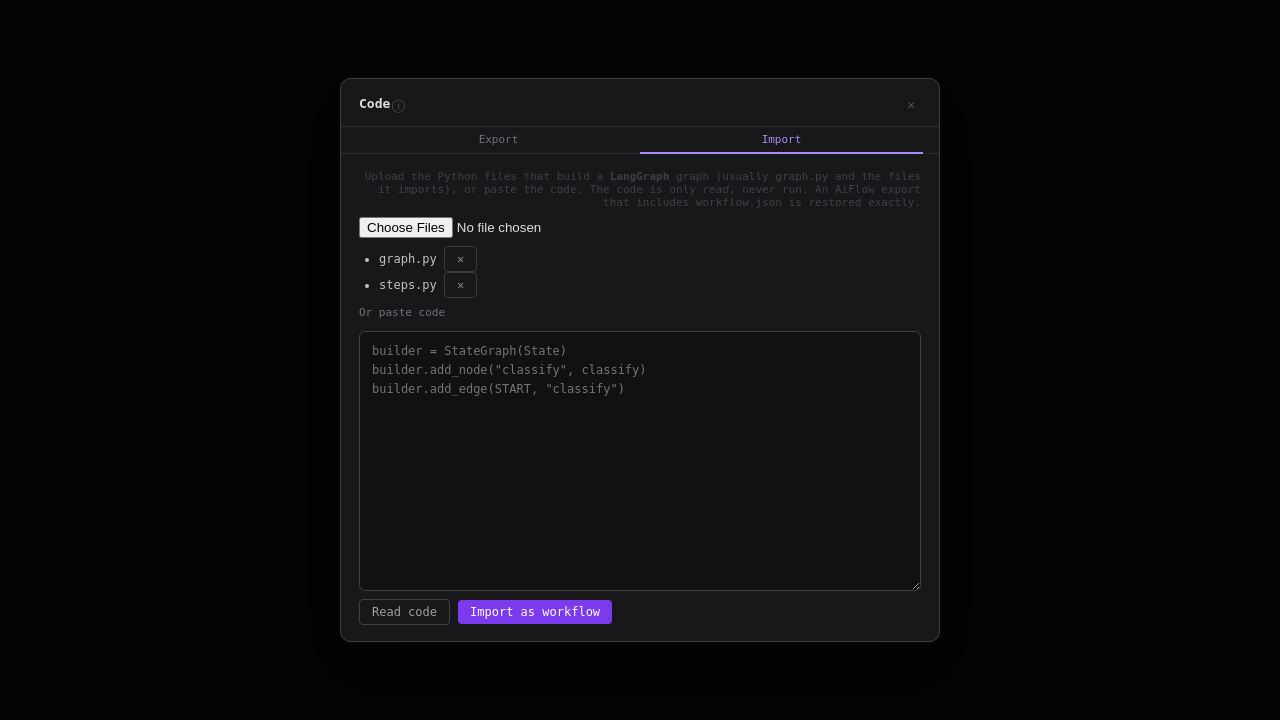
Scenario: ExportCodeModal — import tab › reads uploaded files together with pasted code, and lets a file be removed
Earlier steps of the test are not shown.
Expected: the button named "Remove graph.py" is shown, [444,246,477,272]
Click the button named "Remove steps.py".
click(461, 285)  # box [444,272,477,298]
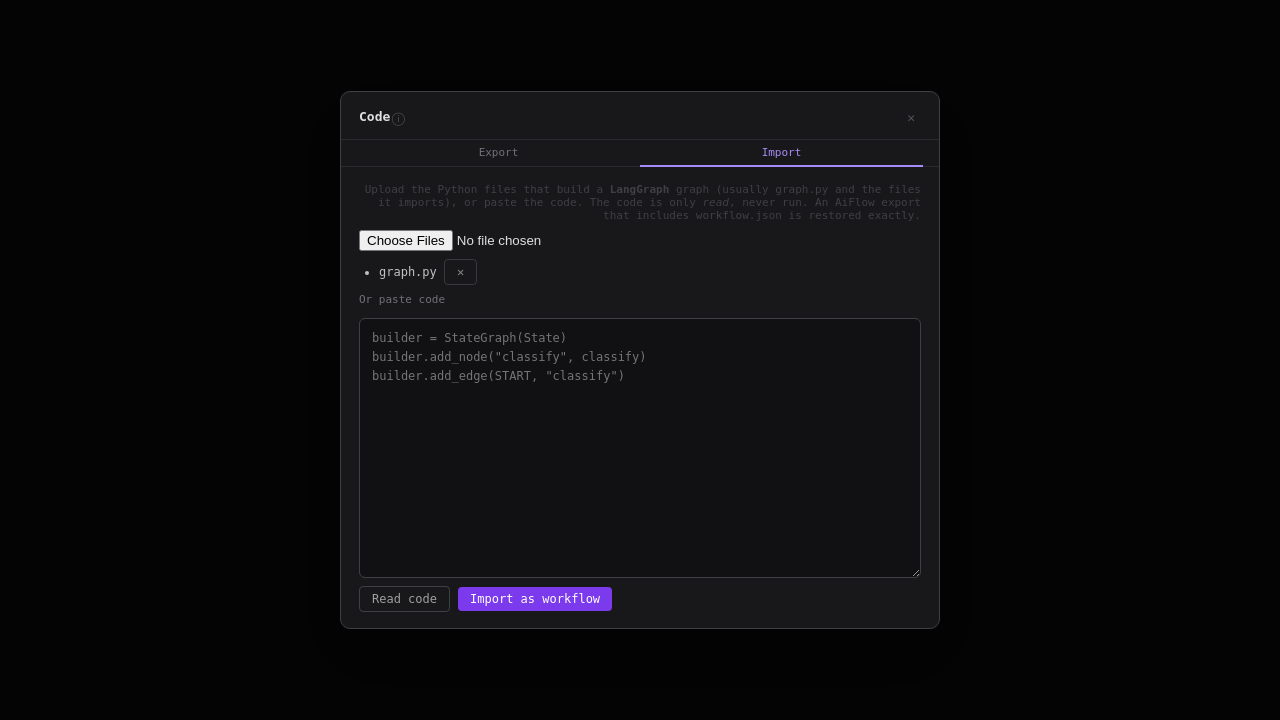
Replace the text in the text box labelled "Or paste code" with "c = 3" at [640, 448], box [359,318,921,578]
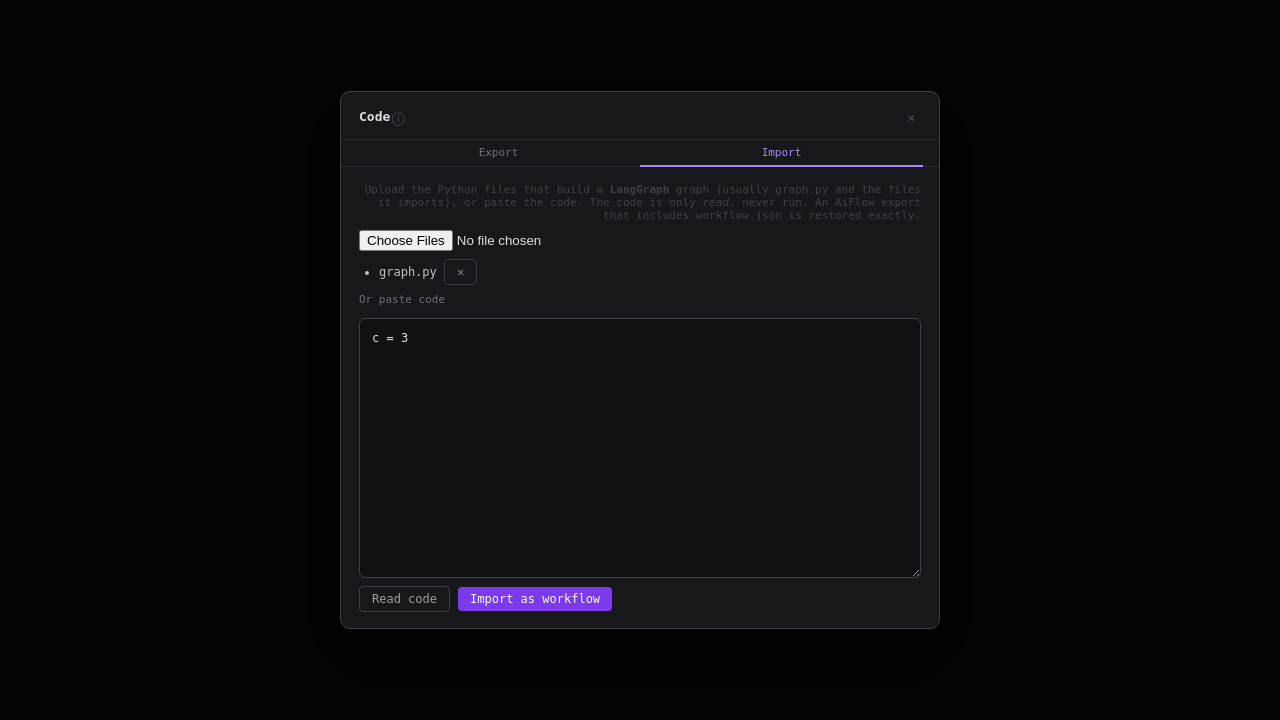
Click the button "Read code".
click(404, 599)  # box [359,586,450,612]
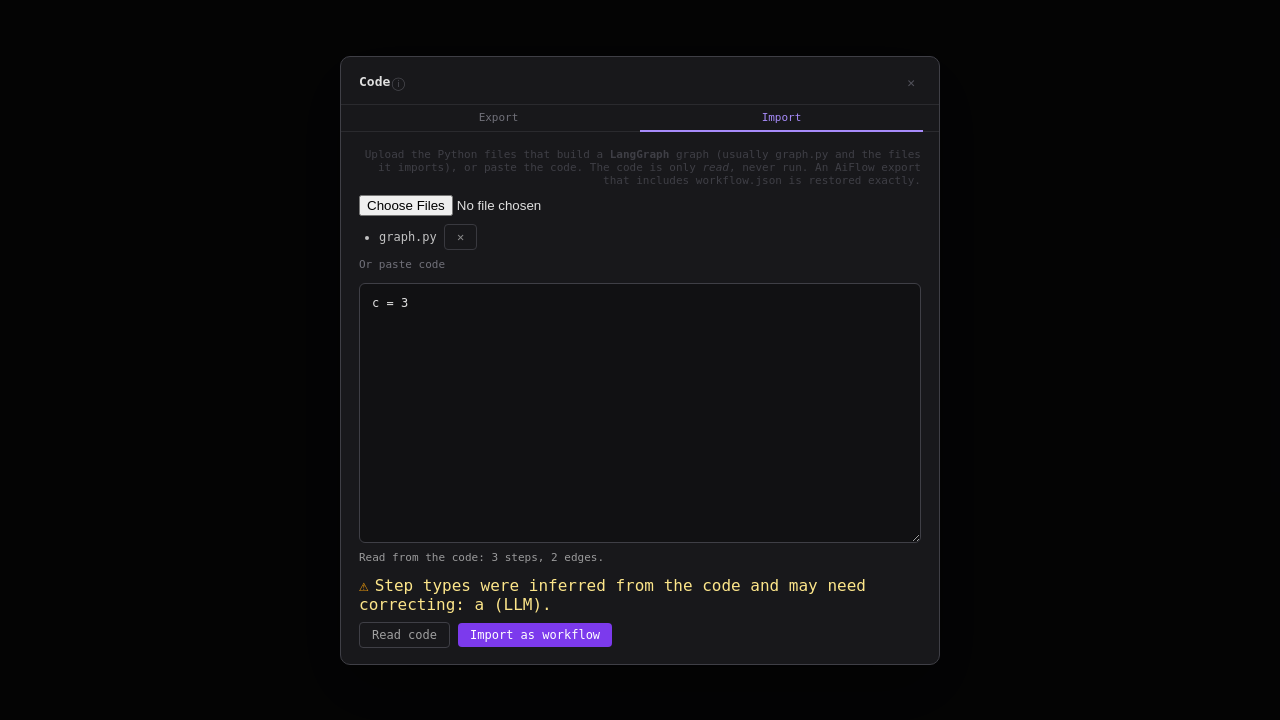
Result: the text "Read from the code: 3 steps, 2 edges." is shown at [359,550,604,564]
